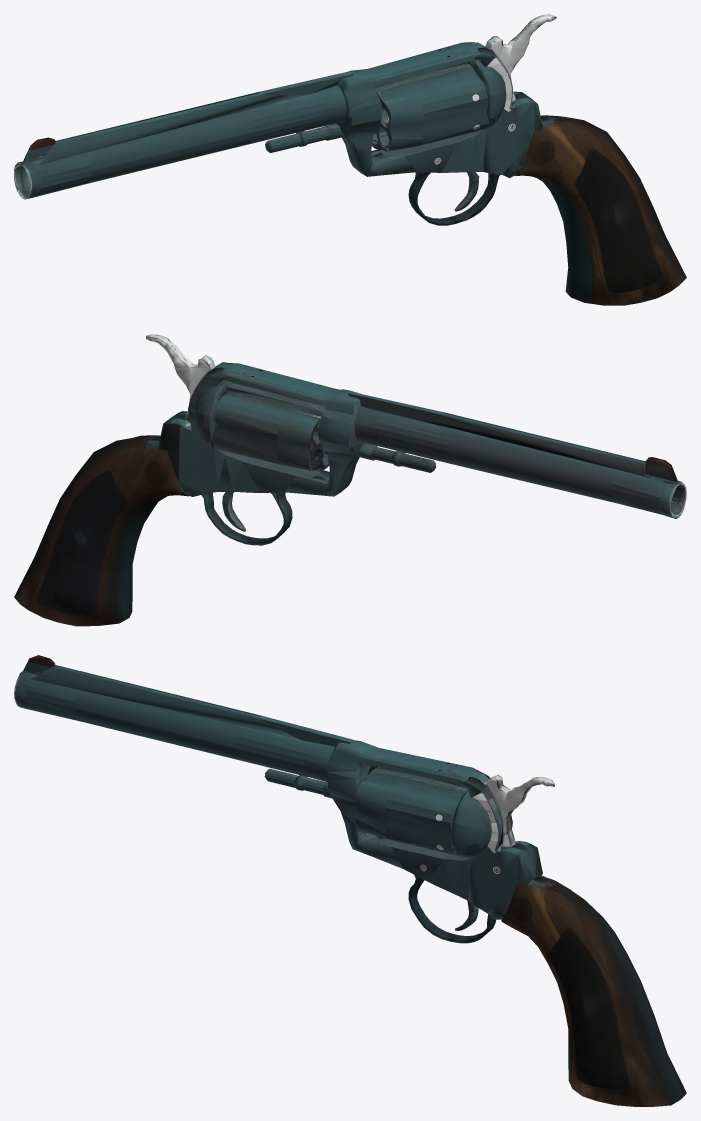
The model's file is revolver.glb.
The picture shows the model from 3 angles, top to bottom: view 1: azimuth 30°, elevation 25°; view 2: azimuth 150°, elevation 25°; view 3: azimuth 330°, elevation 25°; orthographic projection.
Size of the model in its own units: 1 by 0.4209 by 0.1169.
Materials: 1 (1 with a texture image).
